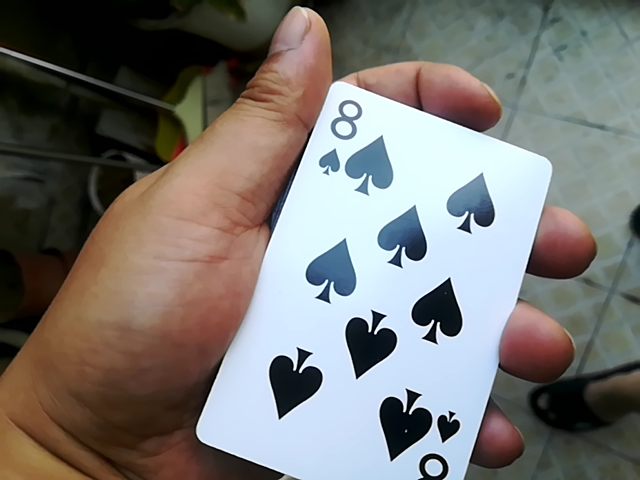ht 8: (192, 78, 549, 480)
